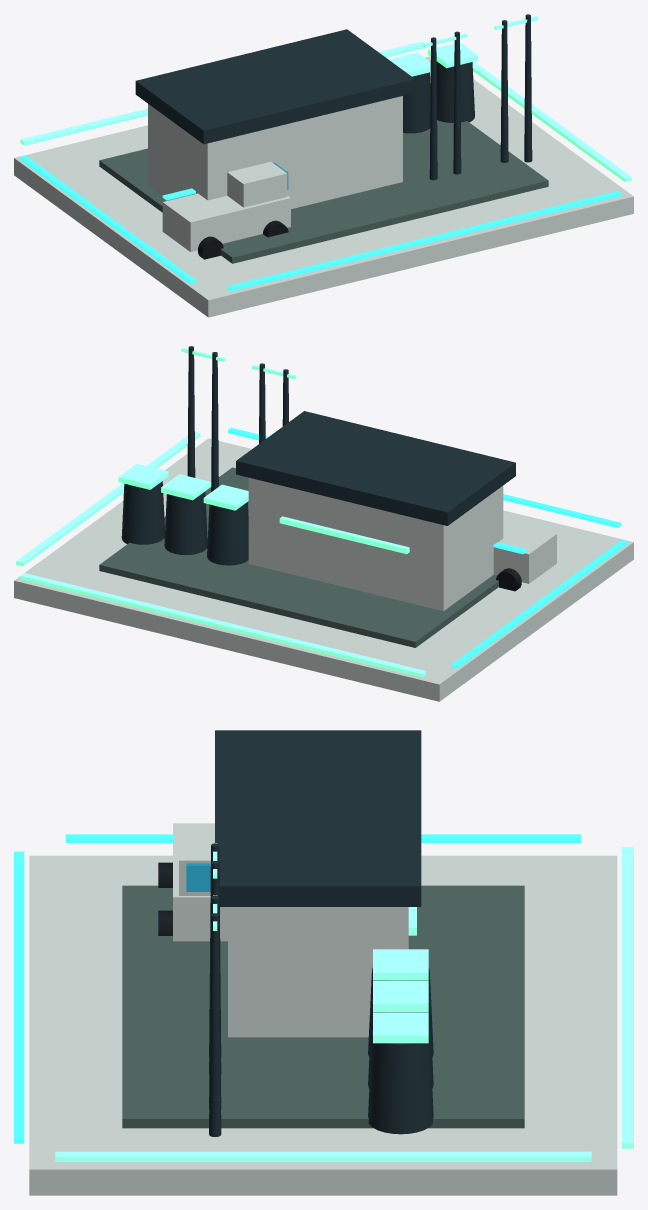
Rendered from power-factory-landmark.glb.
3 views of the same model, one above another, from view 1: azimuth 30°, elevation 25°; view 2: azimuth 150°, elevation 25°; view 3: azimuth 270°, elevation 25° (orthographic). The views are drawn at different scales.
Visible parts, largest first — view 1: rj-power-factory-landmark-clickable-district-pad, rj-power-factory-landmark-generator-roof, rj-power-factory-landmark-generator-hall, rj-power-factory-landmark-inner-service-plaza, rj-power-factory-landmark-grid-service-van-body, rj-power-factory-landmark-rear-service-rail, rj-power-factory-landmark-grid-service-van-cab, rj-power-factory-landmark-transformer-bank-3, rj-power-factory-landmark-left-service-rail, rj-power-factory-landmark-right-status-rail, rj-power-factory-landmark-transformer-bank-2, rj-power-factory-landmark-front-status-rail (+7 smaller); view 2: rj-power-factory-landmark-clickable-district-pad, rj-power-factory-landmark-generator-hall, rj-power-factory-landmark-generator-roof, rj-power-factory-landmark-inner-service-plaza, rj-power-factory-landmark-front-status-rail, rj-power-factory-landmark-grid-service-van-body, rj-power-factory-landmark-transformer-bank-3, rj-power-factory-landmark-transformer-bank-2, rj-power-factory-landmark-transformer-bank-1, rj-power-factory-landmark-right-status-rail, rj-power-factory-landmark-left-service-rail, rj-power-factory-landmark-control-strip (+7 smaller); view 3: rj-power-factory-landmark-clickable-district-pad, rj-power-factory-landmark-inner-service-plaza, rj-power-factory-landmark-generator-roof, rj-power-factory-landmark-generator-hall, rj-power-factory-landmark-right-status-rail, rj-power-factory-landmark-transformer-bank-3, rj-power-factory-landmark-front-status-rail, rj-power-factory-landmark-rear-service-rail, rj-power-factory-landmark-grid-service-van-body, rj-power-factory-landmark-left-service-rail, rj-power-factory-landmark-pylon-2-right, rj-power-factory-landmark-transformer-cap-1 (+5 smaller).
Part boxes in pixels (bbox=[...]): rj-power-factory-landmark-clickable-district-pad: bbox=[14, 56, 633, 317]; rj-power-factory-landmark-generator-roof: bbox=[135, 29, 415, 144]; rj-power-factory-landmark-generator-hall: bbox=[148, 96, 402, 209]; rj-power-factory-landmark-inner-service-plaza: bbox=[99, 120, 548, 263]; rj-power-factory-landmark-grid-service-van-body: bbox=[162, 193, 290, 251]; rj-power-factory-landmark-rear-service-rail: bbox=[228, 191, 621, 290]; rj-power-factory-landmark-grid-service-van-cab: bbox=[227, 161, 287, 207]; rj-power-factory-landmark-transformer-bank-3: bbox=[436, 61, 474, 122]; rj-power-factory-landmark-left-service-rail: bbox=[20, 155, 196, 284]; rj-power-factory-landmark-right-status-rail: bbox=[472, 61, 631, 181]; rj-power-factory-landmark-transformer-bank-2: bbox=[403, 72, 430, 133]; rj-power-factory-landmark-front-status-rail: bbox=[20, 41, 426, 145]; rj-power-factory-landmark-clickable-district-pad: bbox=[14, 438, 633, 701]; rj-power-factory-landmark-generator-hall: bbox=[248, 477, 503, 611]; rj-power-factory-landmark-generator-roof: bbox=[236, 411, 515, 525]; rj-power-factory-landmark-inner-service-plaza: bbox=[99, 467, 498, 647]; rj-power-factory-landmark-front-status-rail: bbox=[20, 573, 426, 677]; rj-power-factory-landmark-grid-service-van-body: bbox=[493, 521, 556, 583]; rj-power-factory-landmark-transformer-bank-3: bbox=[121, 481, 164, 544]; rj-power-factory-landmark-transformer-bank-2: bbox=[164, 491, 207, 554]; rj-power-factory-landmark-transformer-bank-1: bbox=[207, 502, 248, 565]; rj-power-factory-landmark-right-status-rail: bbox=[16, 432, 200, 566]; rj-power-factory-landmark-left-service-rail: bbox=[451, 539, 627, 668]; rj-power-factory-landmark-control-strip: bbox=[279, 516, 409, 554]; rj-power-factory-landmark-clickable-district-pad: bbox=[29, 855, 617, 1195]; rj-power-factory-landmark-inner-service-plaza: bbox=[122, 885, 524, 1128]; rj-power-factory-landmark-generator-roof: bbox=[215, 730, 421, 906]; rj-power-factory-landmark-generator-hall: bbox=[228, 907, 408, 1037]; rj-power-factory-landmark-right-status-rail: bbox=[55, 1151, 591, 1161]; rj-power-factory-landmark-transformer-bank-3: bbox=[368, 1030, 433, 1134]; rj-power-factory-landmark-front-status-rail: bbox=[621, 847, 633, 1148]; rj-power-factory-landmark-rear-service-rail: bbox=[14, 851, 24, 1143]; rj-power-factory-landmark-grid-service-van-body: bbox=[173, 823, 227, 941]; rj-power-factory-landmark-left-service-rail: bbox=[65, 834, 581, 842]; rj-power-factory-landmark-pylon-2-right: bbox=[209, 913, 221, 1136]; rj-power-factory-landmark-transformer-cap-1: bbox=[373, 949, 428, 980].
Bounding box in the file's own units: 7.41 × 2.65 × 6.01.
